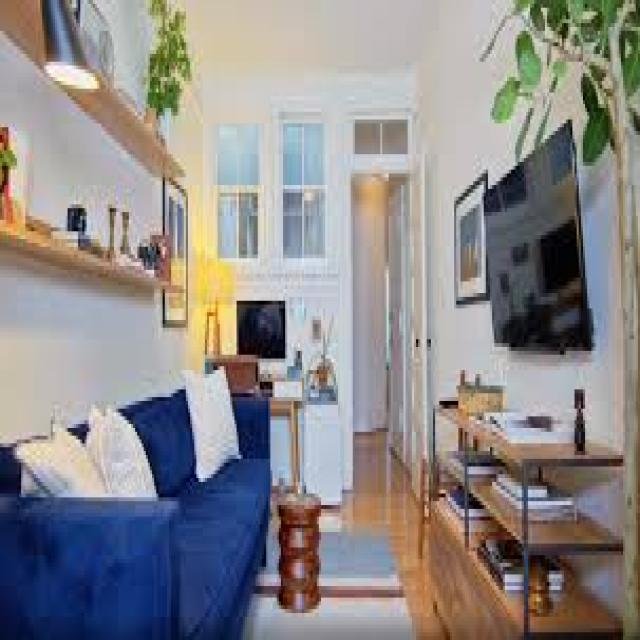Lamp: (194, 236, 234, 368)
Sofa: (0, 385, 283, 638)
